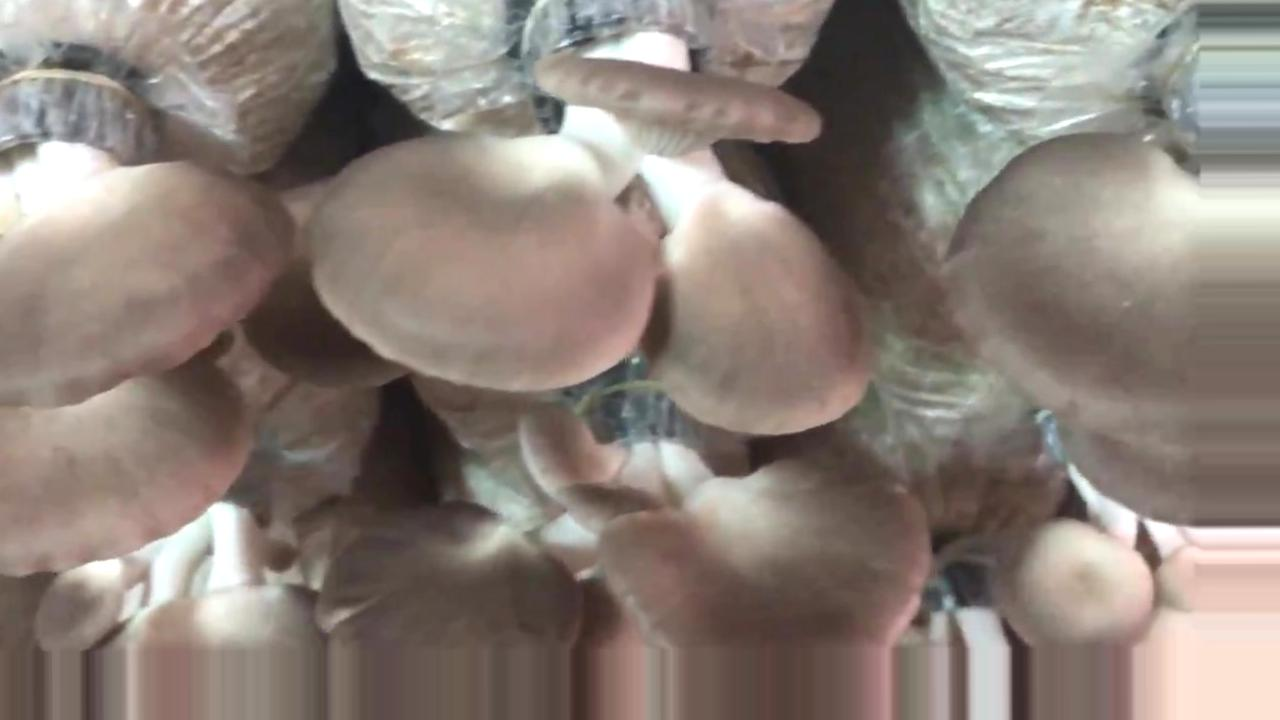nam: (314, 1, 875, 438), (317, 355, 938, 720), (1, 71, 296, 572), (942, 132, 1273, 528), (986, 409, 1199, 720)
